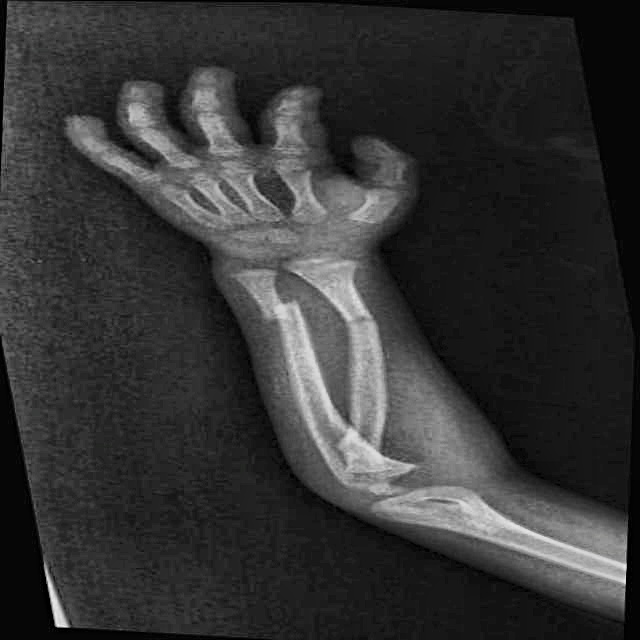Transverse: (219, 281, 318, 335)
Transverse Displaced: (324, 298, 405, 343)
